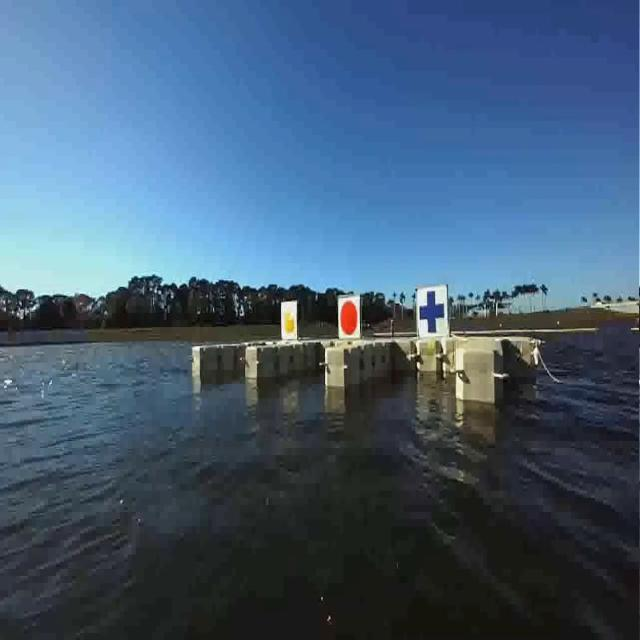blue-cross: (416, 283, 448, 336)
red-dot: (337, 296, 362, 341)
yellow-duck: (278, 302, 297, 337)
